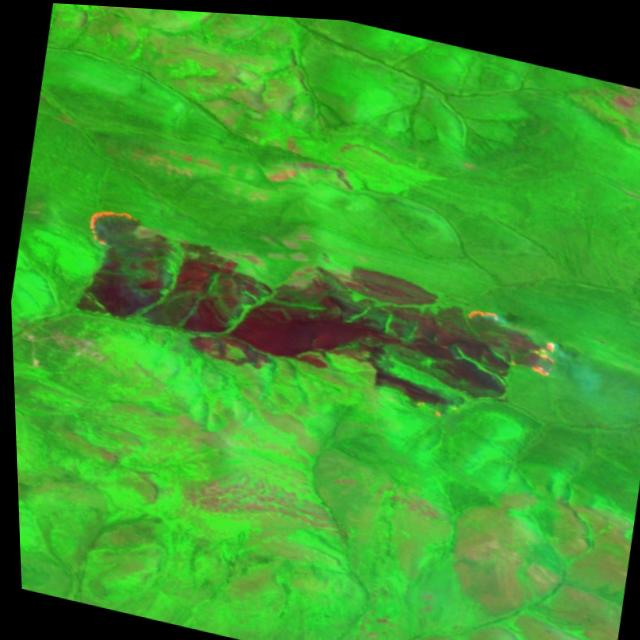fire: (452, 287, 568, 377), (79, 201, 141, 254), (398, 384, 462, 421)
